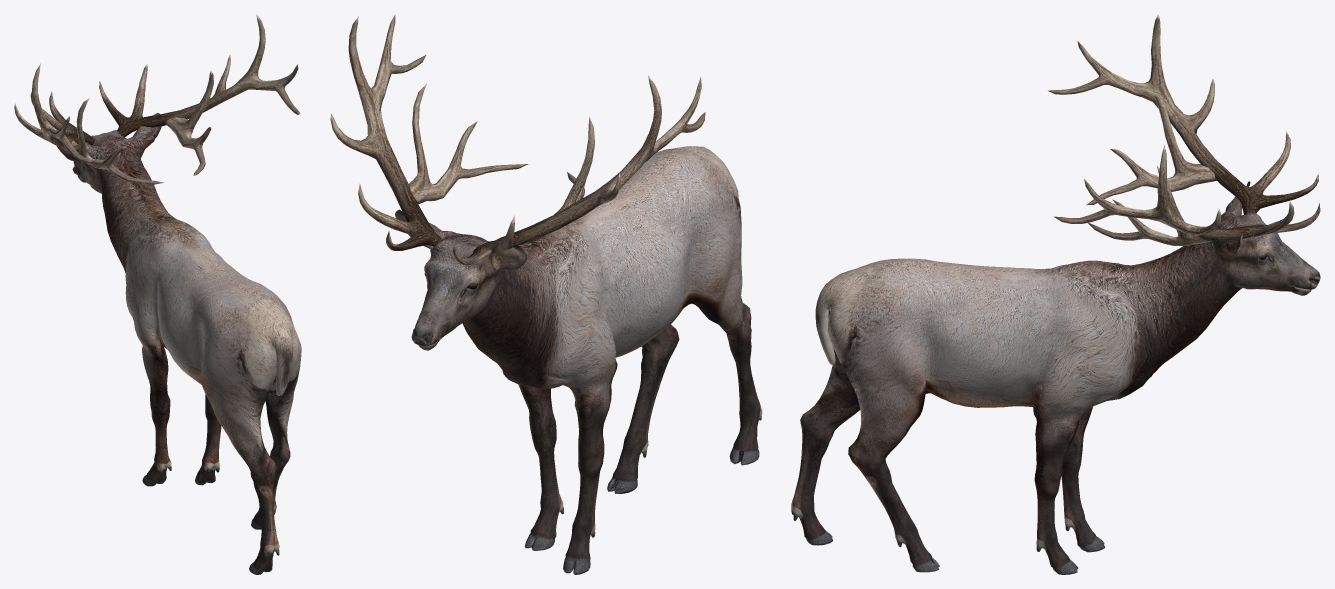
The model's file is deer.glb.
3 renders of one model, left to right at view 1: azimuth 30°, elevation 25°; view 2: azimuth 150°, elevation 25°; view 3: azimuth 270°, elevation 25°, orthographic. The views are drawn at different scales.
Visible parts, largest first — view 1: Deer; view 2: Deer; view 3: Deer.
Boxes of the visible parts, left/top/right/bottom form: Deer: left=14, top=14, right=301, bottom=574; Deer: left=330, top=14, right=762, bottom=574; Deer: left=791, top=14, right=1320, bottom=574.
Bounding box in the file's own units: 0.6483 × 1.1 × 1.08.
Materials: 2 (2 with a texture image).
